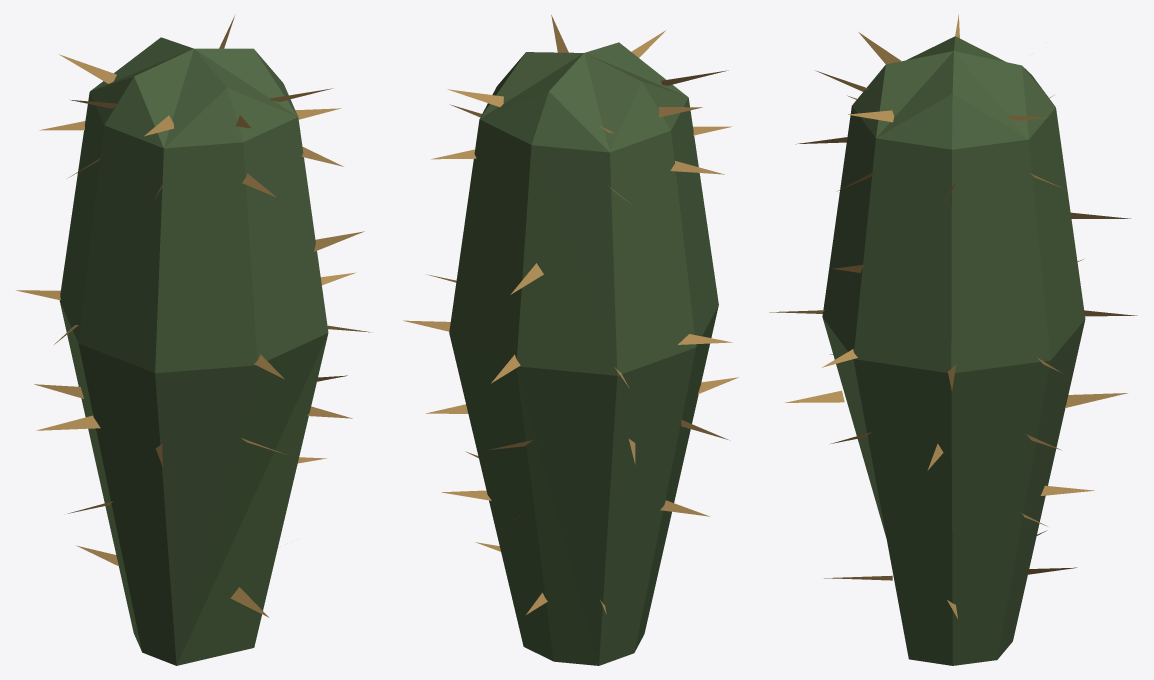
Rendered from q-cactus.lod.glb.
The picture shows the model from 3 angles, left to right: view 1: azimuth 30°, elevation 25°; view 2: azimuth 150°, elevation 25°; view 3: azimuth 270°, elevation 25°; orthographic projection.
Bounding box in the file's own units: 0.5497 × 0.9854 × 0.563.
